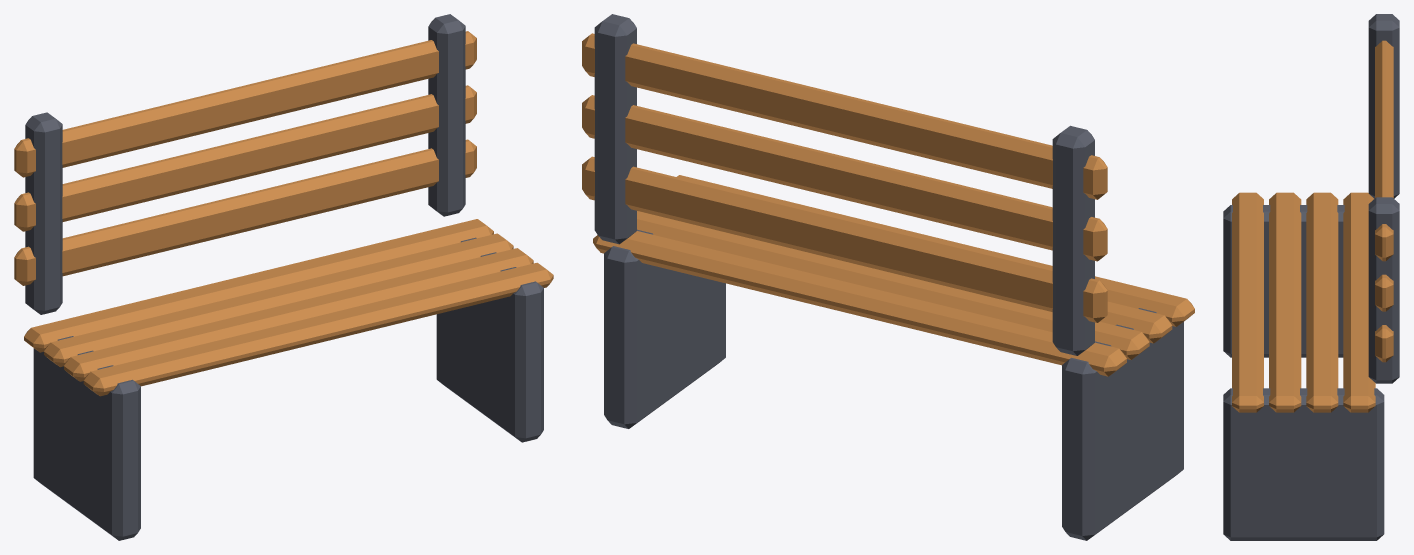
Rendered from CatCafe_Park_Bench.glb.
3 renders of one model, left to right at view 1: azimuth 30°, elevation 25°; view 2: azimuth 150°, elevation 25°; view 3: azimuth 270°, elevation 25°, orthographic. The views are drawn at different scales.
Parts seen in each view (by area): view 1: CatCafe_Park_Bench; view 2: CatCafe_Park_Bench; view 3: CatCafe_Park_Bench.
Boxes of the visible parts, x1,y1,x2,y2 form: CatCafe_Park_Bench: (14, 14, 553, 540); CatCafe_Park_Bench: (582, 14, 1194, 540); CatCafe_Park_Bench: (1223, 14, 1399, 540).
Size of the model in its own units: 4 by 3 by 1.42.
Materials: 1 (1 with a texture image).
